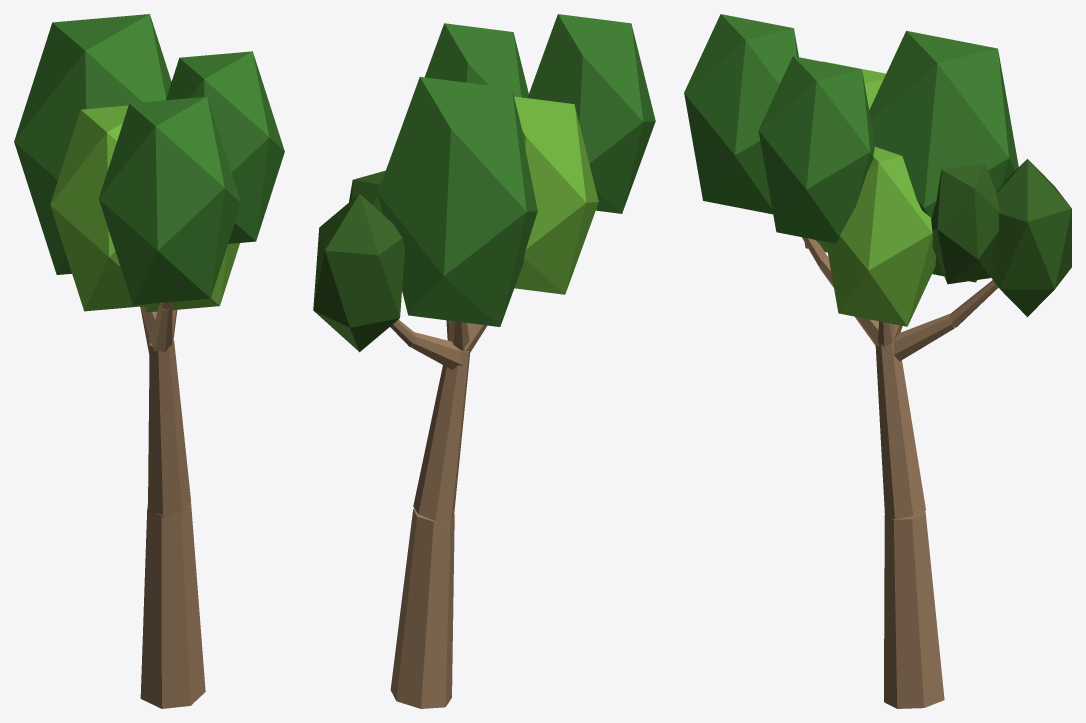
Rendered from forest-deciduous-tall.glb.
3 renders of one model, left to right at view 1: azimuth 30°, elevation 25°; view 2: azimuth 150°, elevation 25°; view 3: azimuth 270°, elevation 25°, orthographic. The views are drawn at different scales.
Visible parts, largest first — view 1: Icosphere.004, Icosphere.006, Trunk0, Icosphere.005, Icosphere.003, Trunk1, Icosphere.002, Branch2a; view 2: Icosphere.006, Icosphere.004, Icosphere.003, Icosphere, Trunk0, Trunk1, Icosphere.005, Branch0a, Icosphere.001; view 3: Icosphere.006, Icosphere.005, Icosphere.004, Icosphere.002, Trunk0, Icosphere, Icosphere.001, Trunk1, Branch0a, Branch0b, Icosphere.003.
Boxes of the visible parts, <box> form: Icosphere.004: <box>98,96,241,305</box>; Icosphere.006: <box>14,14,171,274</box>; Trunk0: <box>140,503,205,708</box>; Icosphere.005: <box>166,51,284,243</box>; Icosphere.003: <box>50,105,162,311</box>; Trunk1: <box>148,337,190,518</box>; Icosphere.002: <box>144,243,239,312</box>; Branch2a: <box>149,304,172,352</box>; Icosphere.006: <box>378,76,537,326</box>; Icosphere.004: <box>527,14,655,213</box>; Icosphere.003: <box>514,96,598,294</box>; Icosphere: <box>313,193,404,352</box>; Trunk0: <box>390,508,454,708</box>; Trunk1: <box>413,350,470,521</box>; Icosphere.005: <box>425,23,528,97</box>; Branch0a: <box>410,332,463,369</box>; Icosphere.001: <box>349,170,385,213</box>; Icosphere.006: <box>869,30,1018,282</box>; Icosphere.005: <box>758,56,874,243</box>; Icosphere.004: <box>684,14,798,214</box>; Icosphere.002: <box>826,146,935,326</box>; Trunk0: <box>884,511,944,708</box>; Icosphere: <box>991,159,1071,316</box>; Icosphere.001: <box>931,164,999,284</box>; Trunk1: <box>875,342,925,518</box>; Branch0a: <box>893,313,954,361</box>; Branch0b: <box>949,280,998,327</box>; Icosphere.003: <box>804,61,885,252</box>.
Size of the model in its own units: 1.28 by 3.95 by 2.18.
